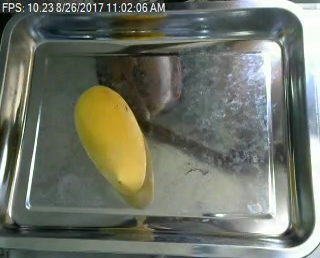Mango: (72, 83, 157, 193)
